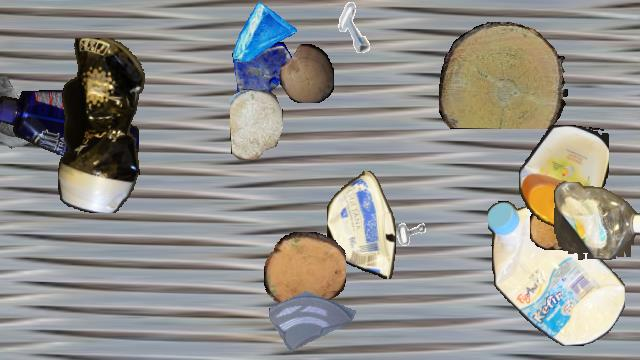glass: (269, 273, 355, 359), (0, 76, 55, 162), (230, 42, 296, 108), (231, 1, 297, 67)
metal: (377, 193, 435, 251), (330, 1, 382, 53)
plastic: (488, 200, 624, 346), (58, 38, 146, 212), (0, 90, 139, 172), (519, 125, 609, 227), (327, 171, 395, 279), (554, 182, 640, 260)
wood: (439, 22, 567, 128), (264, 232, 346, 310), (230, 89, 282, 159), (280, 44, 334, 102), (530, 204, 574, 250)
